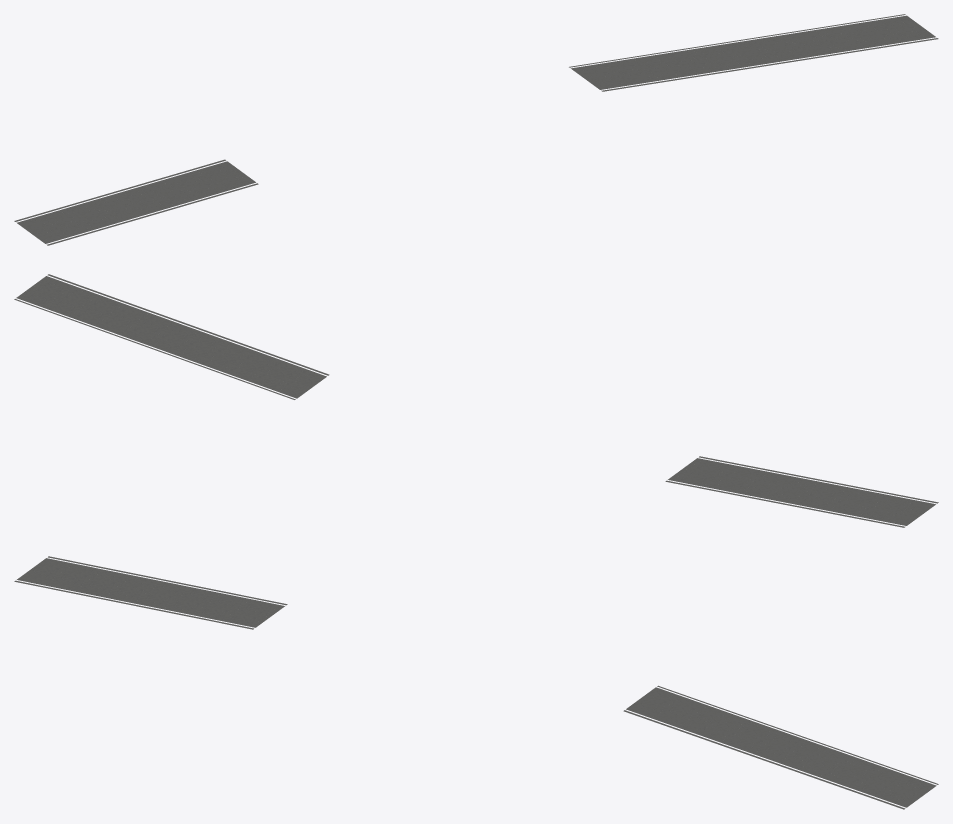
File: kd_stage_136282_2_31_bounded.glb
3 views of the same model, one above another, from view 1: azimuth 30°, elevation 25°; view 2: azimuth 150°, elevation 25°; view 3: azimuth 330°, elevation 25° (orthographic). The views are drawn at different scales.
Visible parts, largest first — view 1: kd_stage_136282_2_31_bounded; view 2: kd_stage_136282_2_31_bounded; view 3: kd_stage_136282_2_31_bounded.
Boxes of the visible parts, x1,y1,x2,y2 form: kd_stage_136282_2_31_bounded: [14, 14, 938, 245]; kd_stage_136282_2_31_bounded: [14, 274, 938, 527]; kd_stage_136282_2_31_bounded: [14, 556, 938, 809].
Size of the model in its own units: 105 by 0.1236 by 13.44.
Materials: 1 (1 with a texture image).
